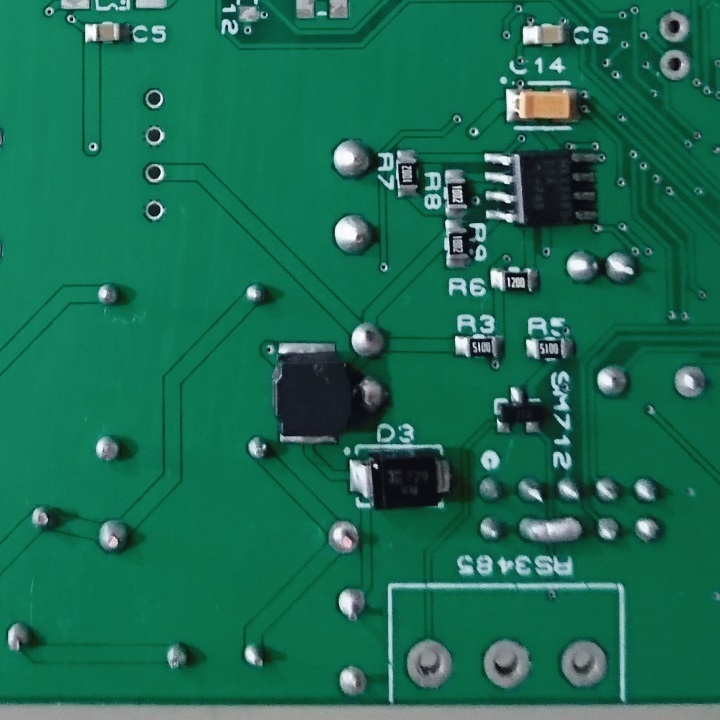F: (479, 629, 535, 693), (401, 635, 456, 693), (559, 636, 610, 689), (669, 360, 711, 406), (333, 583, 370, 626), (333, 662, 372, 702), (326, 518, 362, 558), (655, 6, 693, 43), (658, 48, 691, 86), (141, 159, 168, 186), (141, 198, 169, 224), (140, 87, 166, 109), (143, 123, 167, 146)
P: (514, 512, 586, 547)
